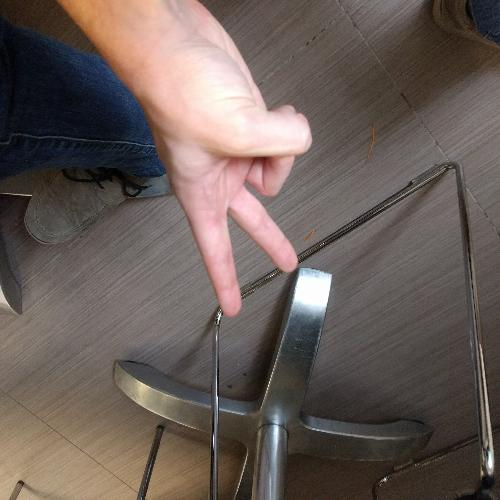scissors: (126, 1, 322, 320)
